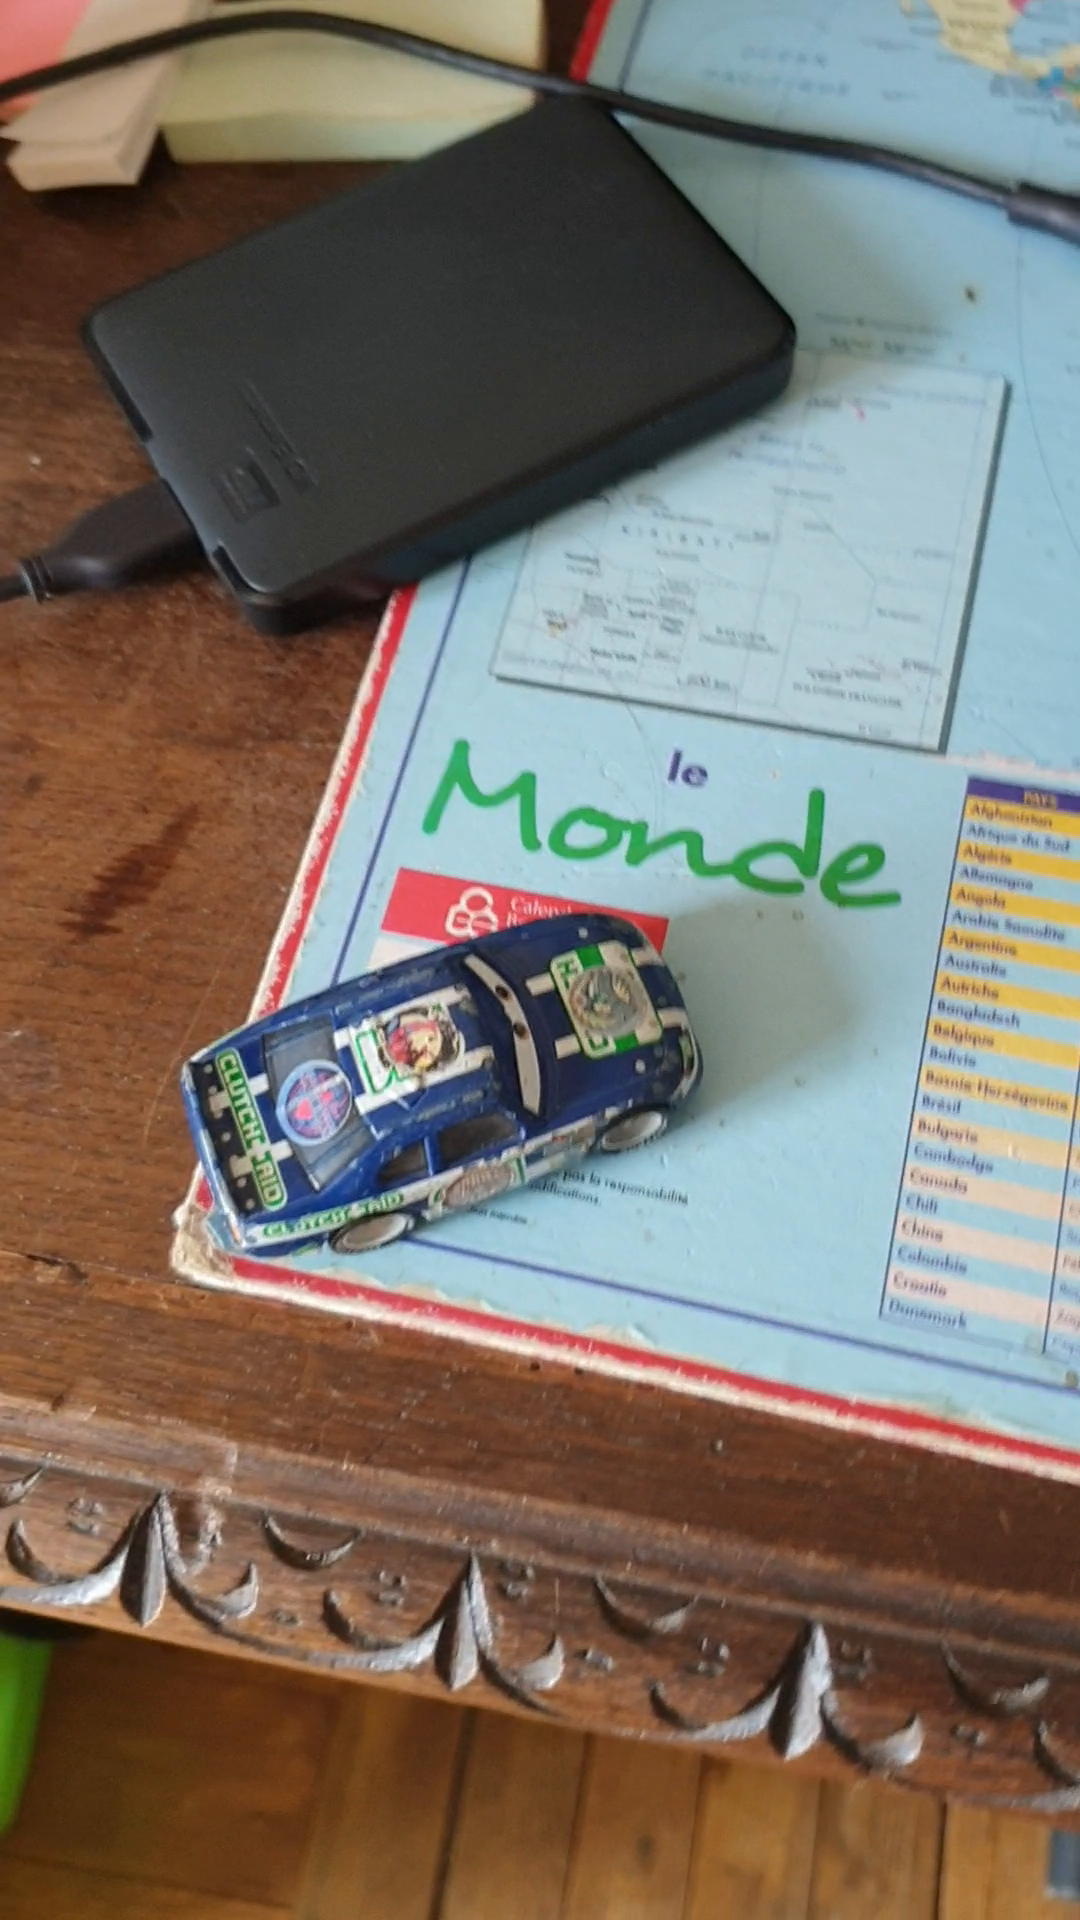cars: (175, 909, 708, 1280)
